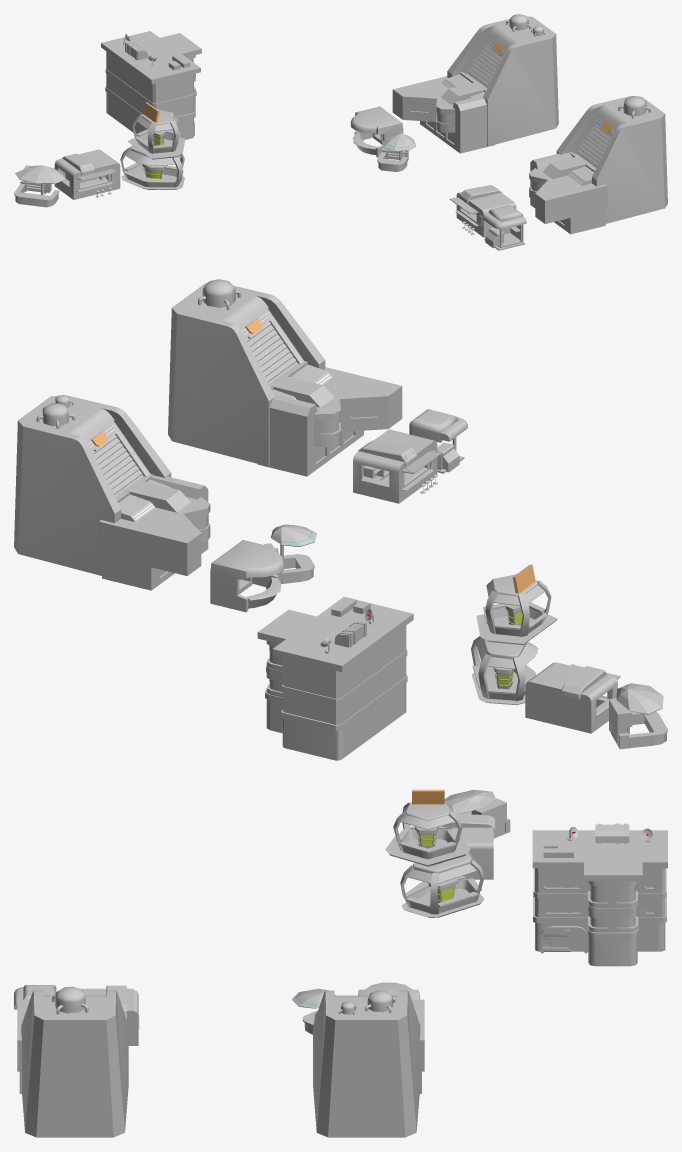
File: Plaza_03_Buildings.fbx
3 views of the same model, one above another, from view 1: azimuth 30°, elevation 25°; view 2: azimuth 150°, elevation 25°; view 3: azimuth 270°, elevation 25° (orthographic). The views are drawn at different scales.
Visible parts, largest first — view 1: t35; view 2: t35; view 3: t35.
Part boxes in pixels (x1,y1,x2,y2): t35: (14, 14, 667, 250); t35: (14, 279, 667, 760); t35: (14, 789, 667, 1137).
Bounding box in the file's own units: 172 × 34.59 × 149.
